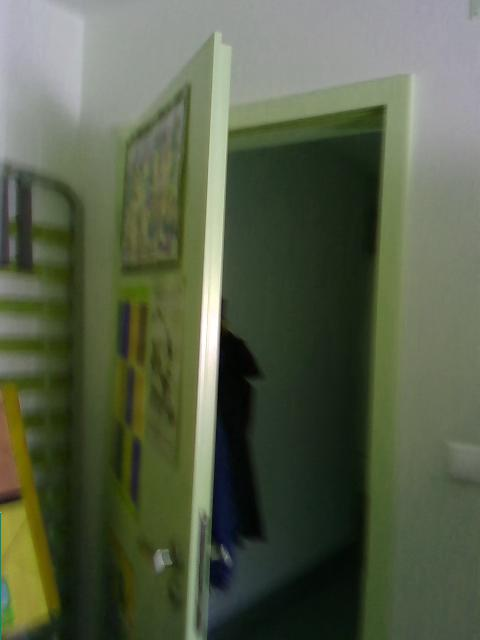semi_door: (100, 25, 413, 639)
